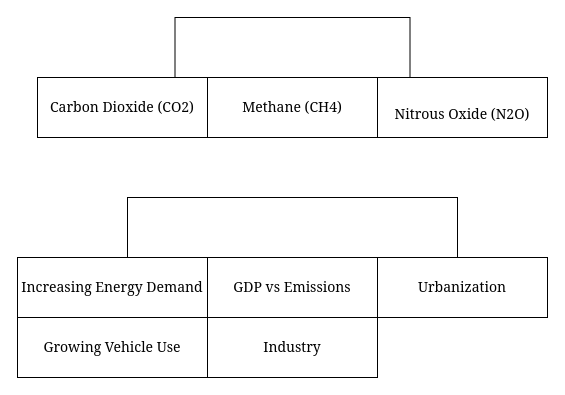
Some shapes in this 565 by 395 pixel diagram are drawn without their labels. The shapes that lost their labels are listed below. From the top down, each one's centre as x and y in pixels, then its label:
At (292,47): "Major GHGs in the Atmosphere".
At (292,227): "Important Factors of Green House Gas Emission".
